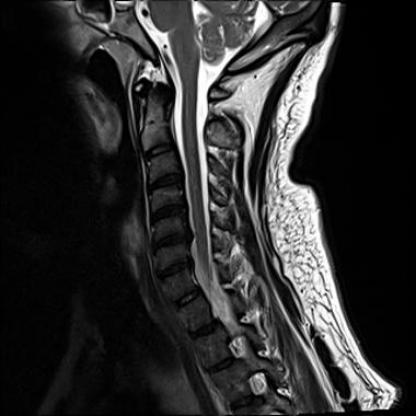Disc Herniationrotation: (146, 173, 185, 192), (150, 234, 191, 252), (148, 204, 189, 220), (154, 262, 194, 277)
Osteophytesrotation: (146, 173, 185, 192), (150, 234, 191, 251), (147, 205, 188, 221), (154, 262, 194, 277)
